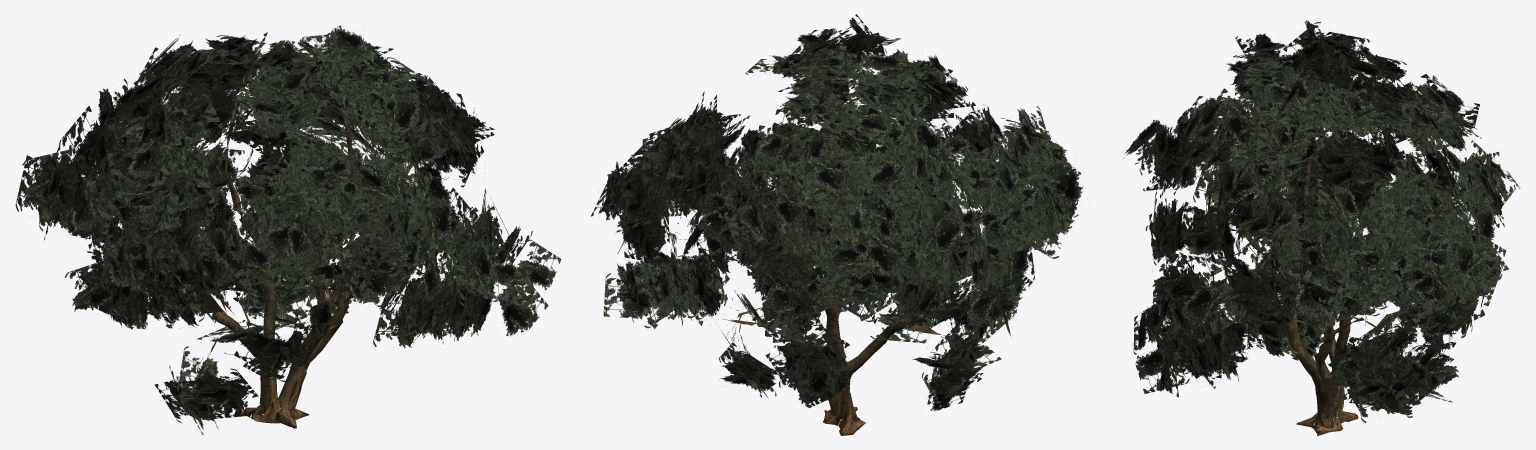
The model's file is keng_0.glb.
3 renders of one model, left to right at view 1: azimuth 30°, elevation 25°; view 2: azimuth 150°, elevation 25°; view 3: azimuth 270°, elevation 25°, orthographic. The views are drawn at different scales.
Parts seen in each view (by area): view 1: keng_0_leaves, jacaranda_tree_trunk, jacaranda_tree_branches; view 2: keng_0_leaves, jacaranda_tree_trunk, jacaranda_tree_branches; view 3: keng_0_leaves, jacaranda_tree_trunk, jacaranda_tree_branches.
Boxes of the visible parts, x1=… form: keng_0_leaves: x1=15, y1=25, x2=561, y2=435; jacaranda_tree_trunk: x1=212, y1=214, x2=373, y2=428; jacaranda_tree_branches: x1=91, y1=52, x2=523, y2=369; keng_0_leaves: x1=591, y1=14, x2=1087, y2=410; jacaranda_tree_trunk: x1=747, y1=213, x2=905, y2=435; jacaranda_tree_branches: x1=633, y1=62, x2=1053, y2=351; keng_0_leaves: x1=1123, y1=20, x2=1520, y2=422; jacaranda_tree_trunk: x1=1276, y1=271, x2=1388, y2=435; jacaranda_tree_branches: x1=1151, y1=75, x2=1483, y2=382.
Bounding box in the file's own units: 16.16 × 13.18 × 12.75.
3 materials, 3 textured.
